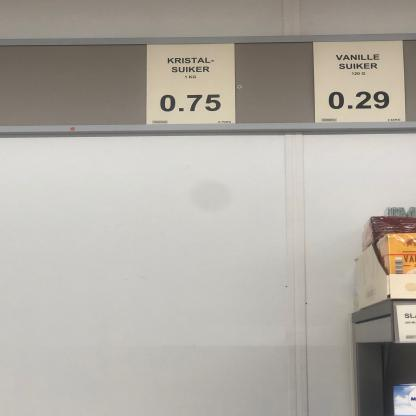prtg: (313, 41, 407, 124), (146, 43, 238, 126)
